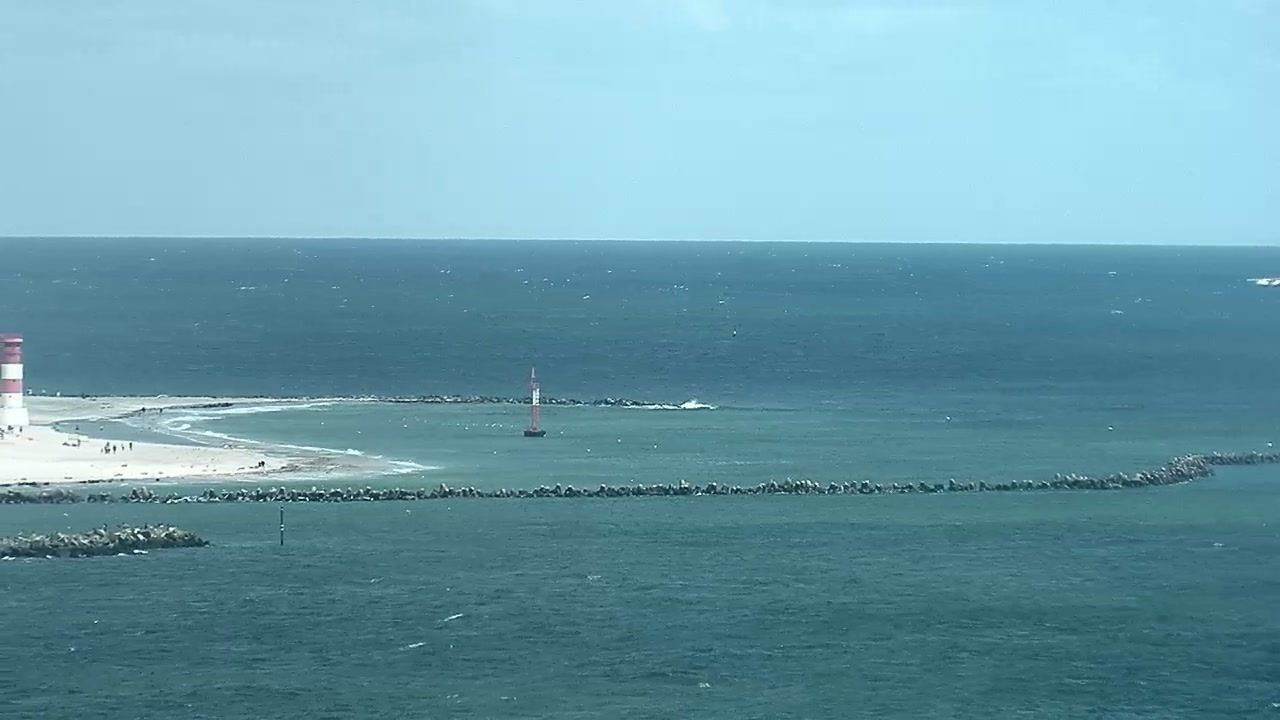human: (112, 444, 117, 454), (76, 438, 81, 447), (18, 425, 23, 434), (74, 424, 79, 432), (121, 443, 125, 452), (129, 441, 133, 450), (261, 459, 265, 467), (159, 407, 163, 414), (141, 406, 145, 413), (258, 460, 261, 468)
sea: (1255, 275, 1280, 287)
